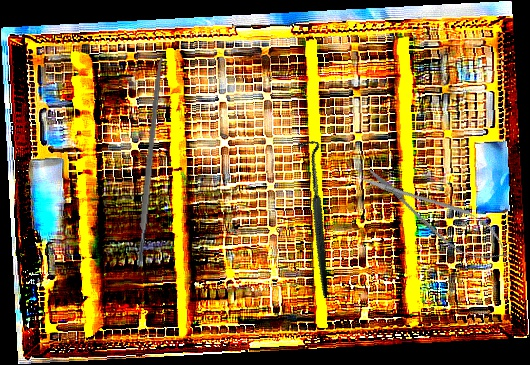Hook Surgical: (247, 135, 381, 299)
Micro Scissor: (352, 154, 518, 275)
Scalpel Handle: (133, 55, 166, 268)
